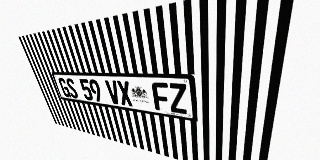5: (79, 79, 94, 101)
9: (88, 79, 104, 102)
F: (151, 82, 170, 112)
G: (57, 78, 71, 98)
S: (65, 78, 79, 99)
V: (105, 80, 121, 105)
X: (116, 80, 133, 107)
Z: (168, 83, 188, 114)
